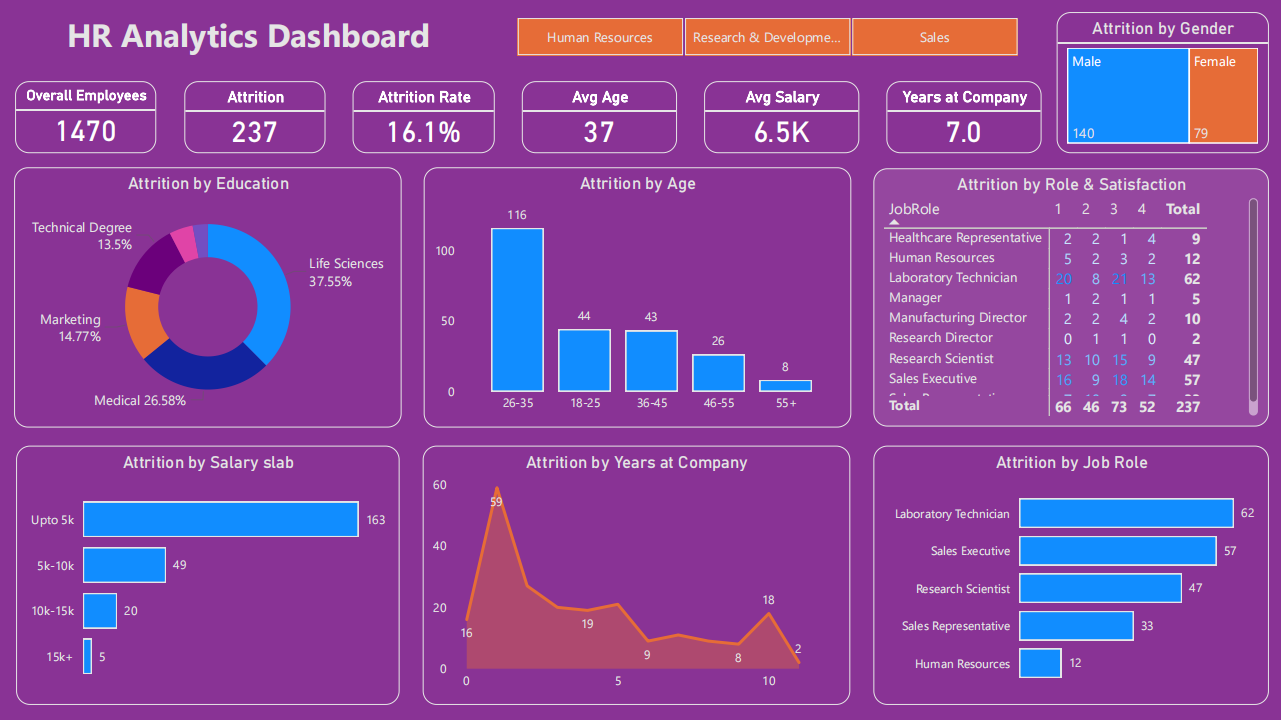

The dashboard page shown, as its layout file describes it:
{"tool":"powerbi","page":{"name":"Page 1","canvas":[1280,720],"ordinal":0},"visuals":[{"type":"card","title":"Overall Employees","fields":{"Values":["CountNonNull(HR_Analytics.EmpID)"]},"box":[14.8,82.2,141.5,71.4],"z":0},{"type":"card","title":"Attrition","fields":{"Values":["Sum(HR_Analytics.AttritionCount)"]},"box":[183.6,82.2,141.5,71.4],"z":1000},{"type":"card","title":"Attrition Rate","fields":{"Values":["HR_Analytics.AttritionRate"]},"box":[352.3,82.2,141.5,71.4],"z":2000},{"type":"card","title":"Avg Age","fields":{"Values":["Avg(HR_Analytics.Age)"]},"box":[521,82.2,155,71.4],"z":3000},{"type":"card","title":"Avg Salary","fields":{"Values":["Avg(HR_Analytics.MonthlyIncome)"]},"box":[703.2,82.2,155,71.4],"z":4000},{"type":"card","title":"Years at Company","fields":{"Values":["Avg(HR_Analytics.YearsAtCompany)"]},"box":[885.4,82.2,155,71.4],"z":5000},{"type":"donutChart","title":"Attrition by Education","fields":{"Category":["HR_Analytics.EducationField"],"Y":["Sum(HR_Analytics.AttritionCount)"]},"box":[13.8,167.9,386.8,260.1],"z":6000},{"type":"columnChart","title":"Attrition by Age","fields":{"Category":["HR_Analytics.AgeGroup"],"Y":["Sum(HR_Analytics.AttritionCount)"]},"box":[422.7,167.9,427.2,260.1],"z":7000},{"type":"pivotTable","title":"Attrition by Role & Satisfaction","fields":{"Rows":["HR_Analytics.JobRole"],"Columns":["HR_Analytics.JobSatisfaction"],"Values":["Sum(HR_Analytics.AttritionCount)"]},"box":[871.9,168.6,394.9,258.8],"z":8000},{"type":"barChart","title":"Attrition by Salary slab","fields":{"Category":["HR_Analytics.SalarySlab"],"Y":["Sum(HR_Analytics.AttritionCount)"]},"box":[15.8,446.1,382.7,258.8],"z":9000},{"type":"barChart","title":"Attrition by Job Role","fields":{"Y":["Sum(HR_Analytics.AttritionCount)"],"Category":["HR_Analytics.JobRole"]},"box":[871.9,446.1,394.9,258.8],"z":10000},{"type":"areaChart","title":"Attrition by Years at Company","fields":{"Category":["HR_Analytics.YearsAtCompany"],"Y":["Sum(HR_Analytics.AttritionCount)"]},"box":[421.6,446.1,427.2,258.8],"z":11000},{"type":"treemap","title":"Attrition by Gender","fields":{"Group":["HR_Analytics.Gender"],"Values":["Sum(HR_Analytics.AttritionCount)"]},"box":[1055.2,13.5,211.6,140.2],"z":12000},{"type":"slicer","fields":{"Values":["HR_Analytics.Department"]},"box":[491,12.1,548.9,50.7],"z":13000},{"type":"textbox","box":[15.7,8.4,465.7,57.9],"z":14000}]}

Visuals, with their boxes in screenshot pixels (x1, y1, x2, y2), scaled from the page's 1280x720 canvas onto the 1281x720 screenshot:
"Overall Employees" card: 15, 82, 156, 154
"Attrition" card: 184, 82, 325, 154
"Attrition Rate" card: 353, 82, 494, 154
"Avg Age" card: 521, 82, 677, 154
"Avg Salary" card: 704, 82, 859, 154
"Years at Company" card: 886, 82, 1041, 154
"Attrition by Education" donutChart: 14, 168, 401, 428
"Attrition by Age" columnChart: 423, 168, 851, 428
"Attrition by Role & Satisfaction" pivotTable: 873, 169, 1268, 427
"Attrition by Salary slab" barChart: 16, 446, 399, 705
"Attrition by Job Role" barChart: 873, 446, 1268, 705
"Attrition by Years at Company" areaChart: 422, 446, 849, 705
"Attrition by Gender" treemap: 1056, 14, 1268, 154
slicer - HR_Analytics.Department: 491, 12, 1041, 63
textbox: 16, 8, 482, 66
